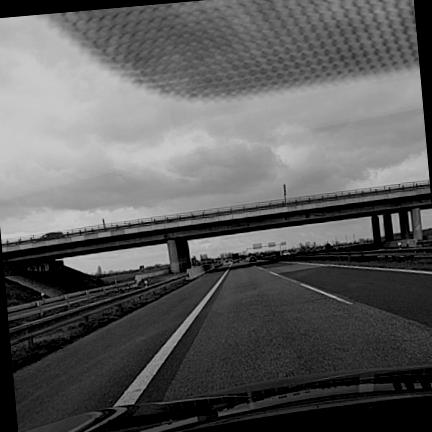Road: (13, 263, 431, 431)
